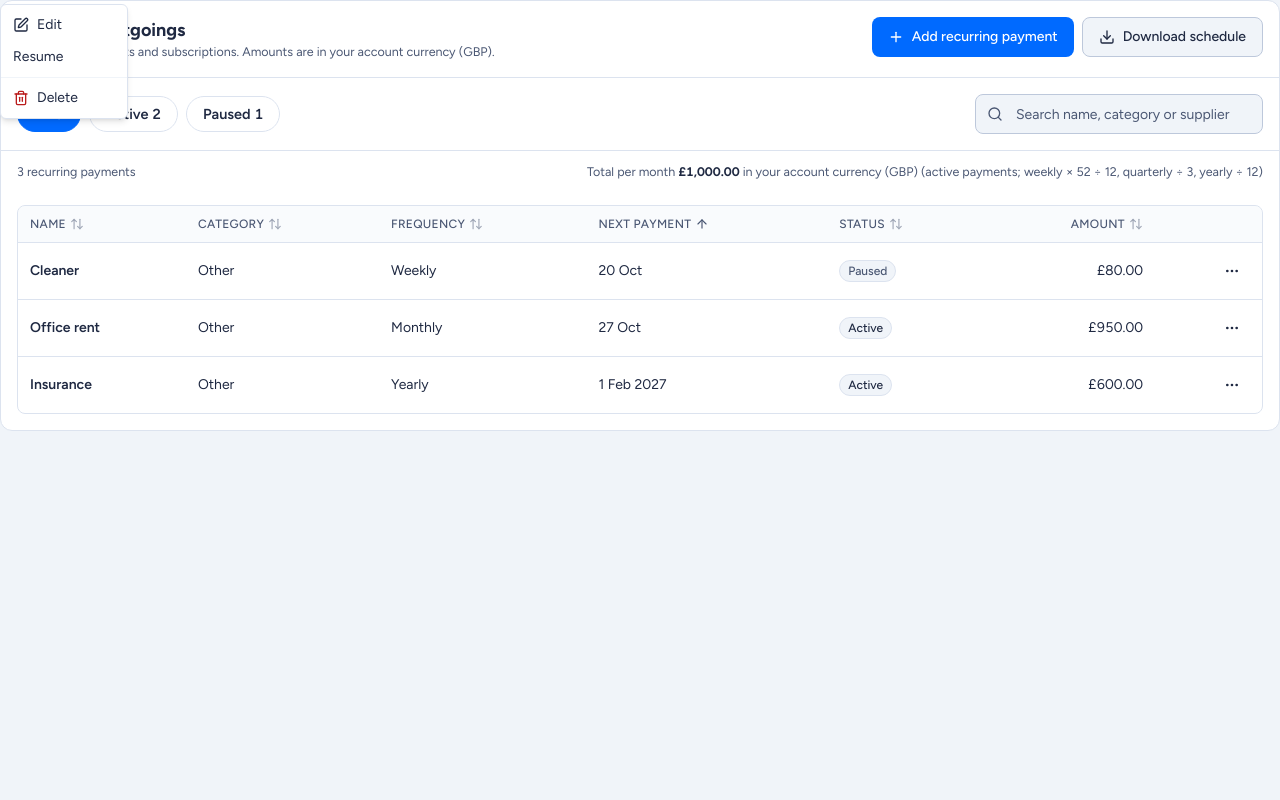
OutgoingsTab › delete removes the row only after the confirmation
The width and height of the screenshot is (1280, 800).
Earlier steps of the test are not shown.
Later steps or results of the test are not shown.
Click the menu item "Delete".
click(45, 98)  # box [13,89,78,106]
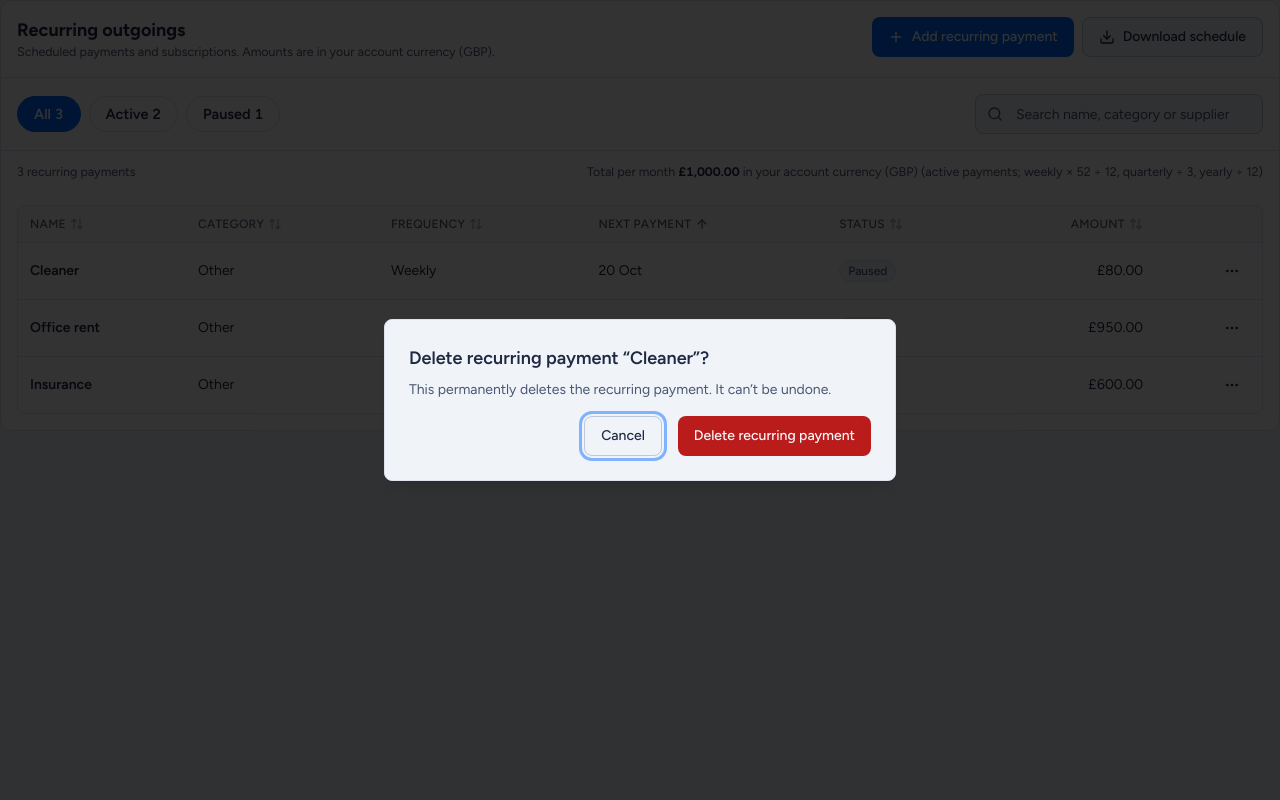
Expected: the dialog shows "Delete recurring payment “Cleaner”?", [409,347,709,369]
